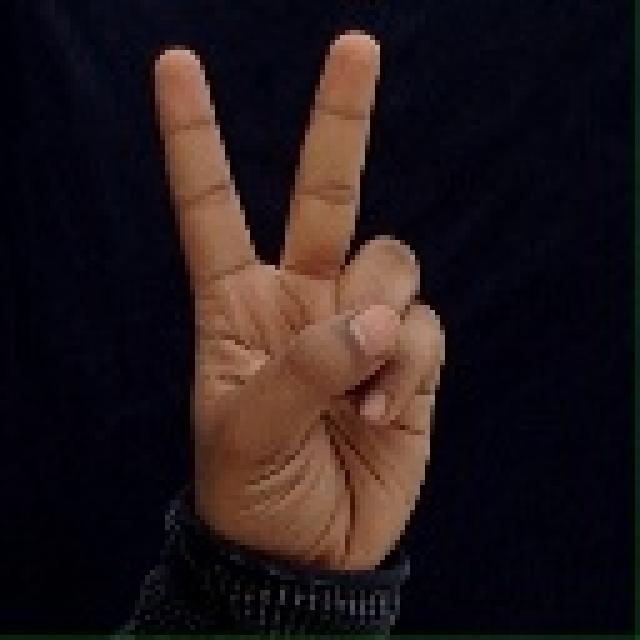Numeric-2: (143, 26, 453, 592)
